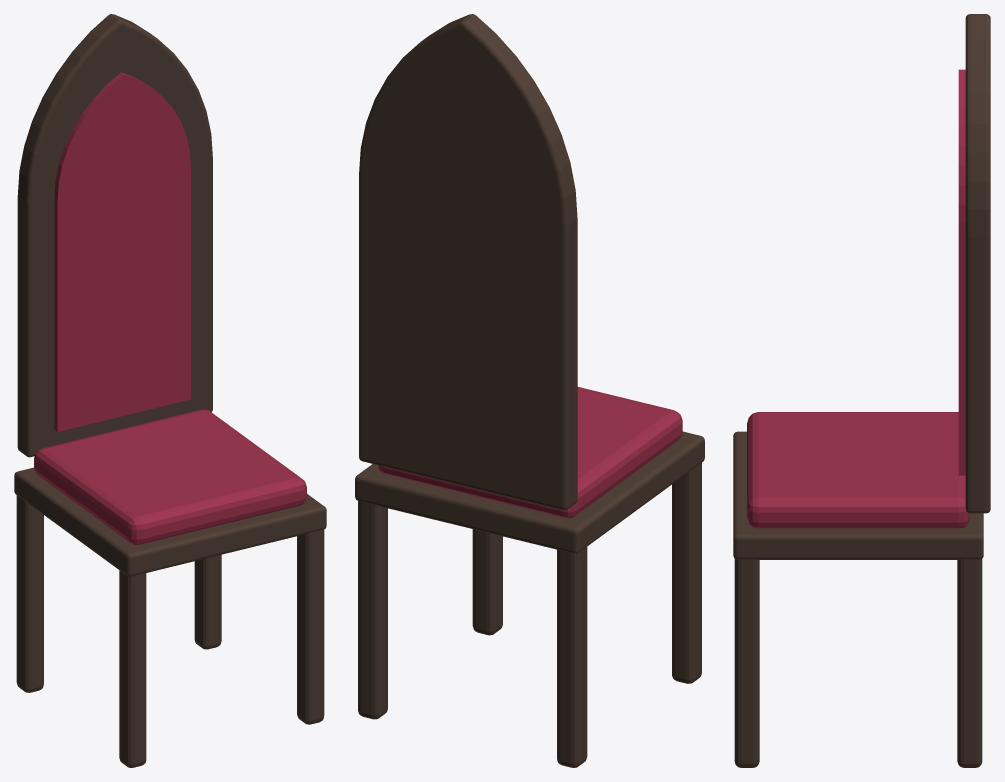
Rendered from chair_tall_cushion.glb.
3 renders of one model, left to right at view 1: azimuth 30°, elevation 25°; view 2: azimuth 150°, elevation 25°; view 3: azimuth 270°, elevation 25°, orthographic. The views are drawn at different scales.
Parts seen in each view (by area): view 1: GD_chair_tall_cushion__m1, GD_chair_tall_cushion__m0; view 2: GD_chair_tall_cushion__m0, GD_chair_tall_cushion__m1; view 3: GD_chair_tall_cushion__m0, GD_chair_tall_cushion__m1.
Part boxes in pixels (bbox=[...]): GD_chair_tall_cushion__m1: bbox=[34, 72, 306, 544]; GD_chair_tall_cushion__m0: bbox=[14, 14, 326, 767]; GD_chair_tall_cushion__m0: bbox=[355, 14, 704, 767]; GD_chair_tall_cushion__m1: bbox=[377, 387, 682, 518]; GD_chair_tall_cushion__m0: bbox=[733, 14, 990, 767]; GD_chair_tall_cushion__m1: bbox=[747, 69, 969, 528].
Size of the model in its own units: 0.45 by 1.39 by 0.4625.
